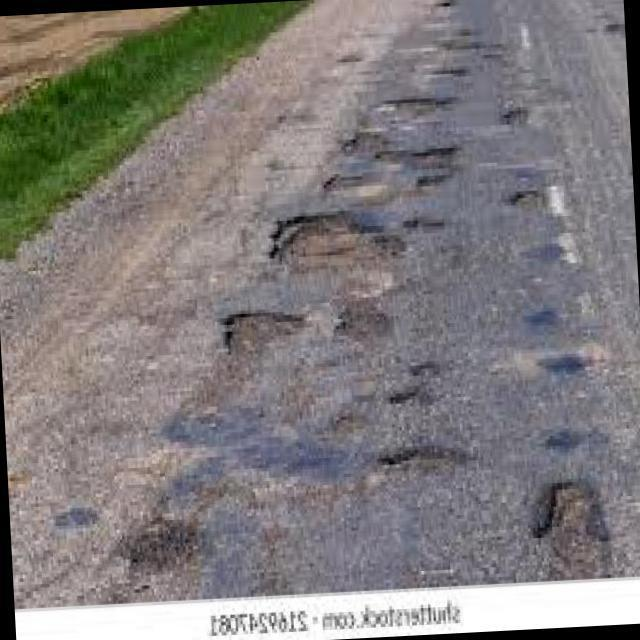Pothole: (244, 214, 403, 273)
